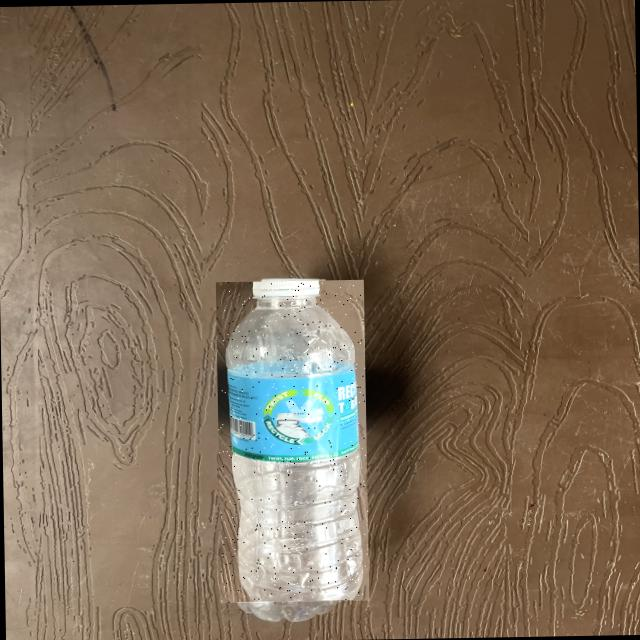REJECT: (216, 278, 370, 604)
